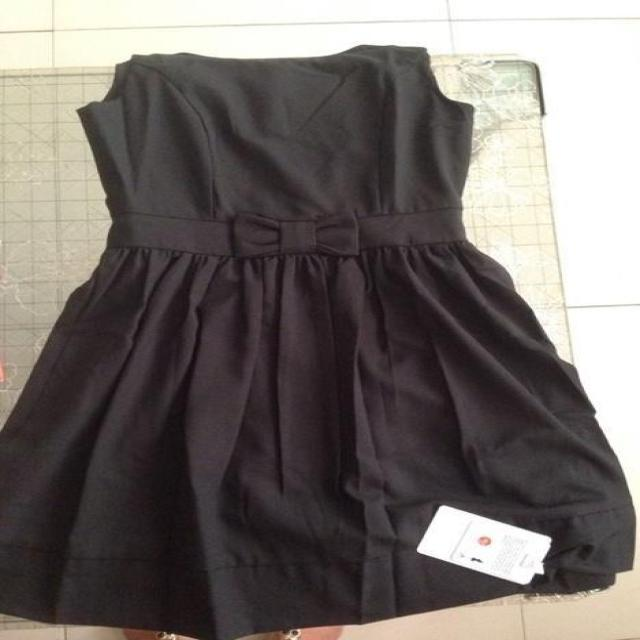short-sleeve-dress: (46, 36, 640, 603)
